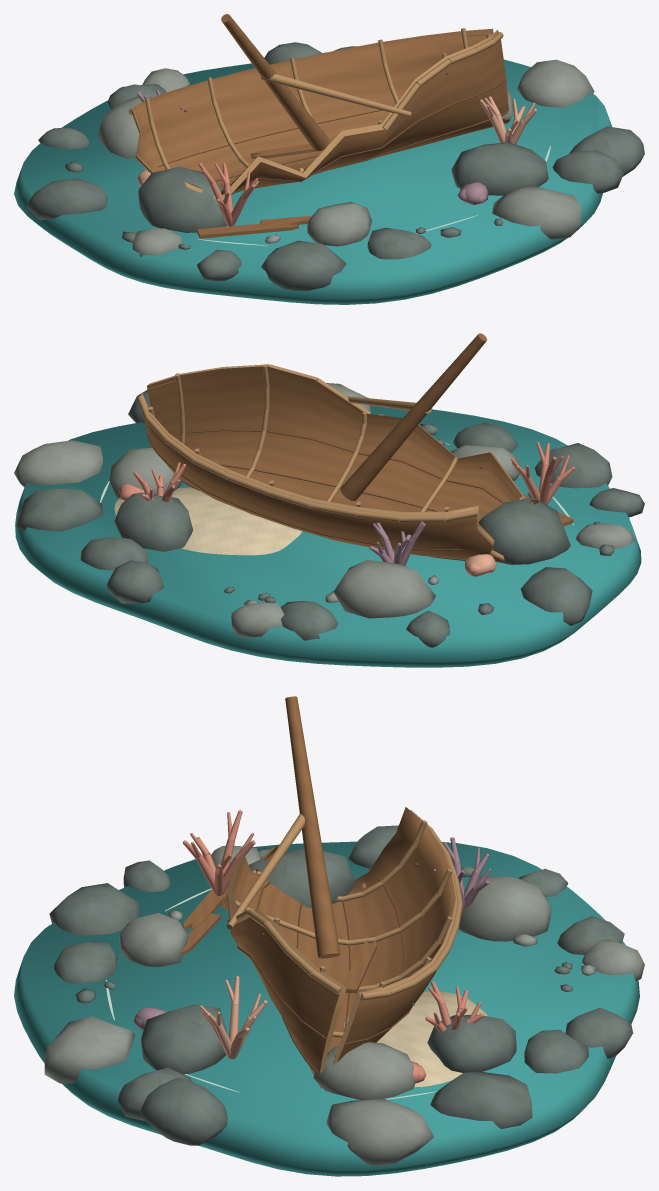
Rendered from shipwreck-reef-v4.fbx.
3 renders of one model, top to bottom at view 1: azimuth 30°, elevation 25°; view 2: azimuth 150°, elevation 25°; view 3: azimuth 270°, elevation 25°, orthographic. The views are drawn at different scales.
Visible parts, largest first — view 1: Shipwreck | collectible export; view 2: Shipwreck | collectible export; view 3: Shipwreck | collectible export.
Part boxes in pixels (x1,y1,x2,y2): Shipwreck | collectible export: [14, 14, 644, 304]; Shipwreck | collectible export: [14, 333, 644, 667]; Shipwreck | collectible export: [14, 696, 644, 1176].
Size of the model in its own units: 172 by 66.88 by 145.
11 materials, 4 textured.
